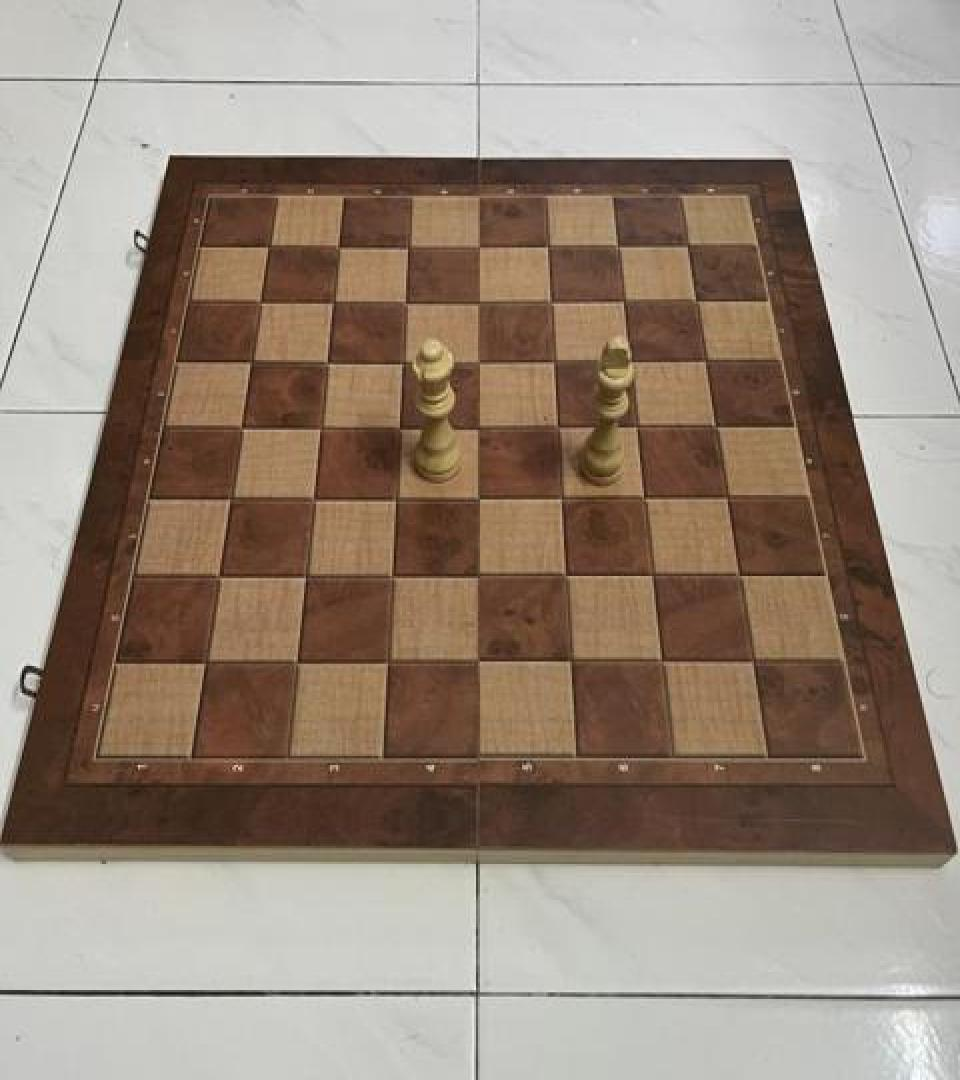xcorner: (189, 644, 221, 681), (669, 228, 701, 264), (600, 228, 632, 264), (530, 228, 562, 264), (461, 228, 493, 264), (391, 228, 423, 264), (322, 228, 354, 264), (252, 228, 284, 264), (678, 284, 710, 320), (606, 284, 638, 320), (533, 284, 565, 320), (461, 284, 493, 320), (389, 284, 421, 320), (316, 284, 348, 320), (244, 284, 276, 320), (688, 343, 720, 379), (612, 343, 644, 379), (537, 343, 569, 379), (461, 343, 493, 379), (386, 343, 418, 379), (310, 343, 342, 379), (235, 343, 267, 379), (698, 407, 730, 443), (619, 408, 651, 444), (540, 408, 572, 444), (462, 408, 494, 444), (383, 408, 415, 444), (304, 408, 336, 444), (225, 408, 257, 444), (709, 479, 741, 515), (627, 479, 659, 515), (544, 479, 576, 515), (462, 479, 494, 515), (379, 479, 411, 515), (297, 479, 329, 515), (214, 479, 246, 515), (722, 557, 754, 593), (635, 557, 667, 593), (549, 557, 581, 593), (462, 557, 494, 593), (376, 558, 408, 594), (289, 558, 321, 594), (202, 558, 234, 594), (735, 642, 767, 678), (644, 644, 676, 680), (554, 644, 586, 680), (462, 644, 494, 680), (371, 644, 403, 680), (280, 644, 312, 680)
